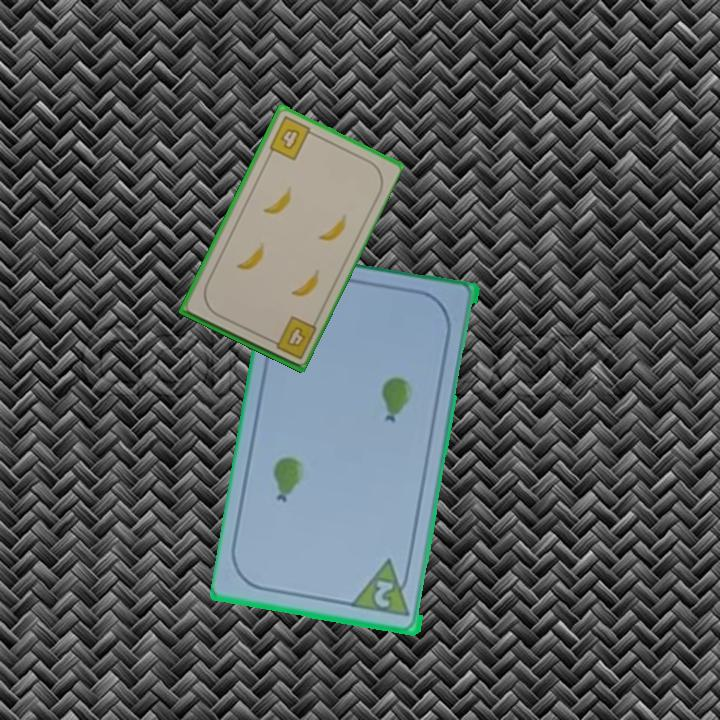2p: (371, 577, 397, 611)
4b: (265, 112, 318, 163), (265, 312, 319, 362)
